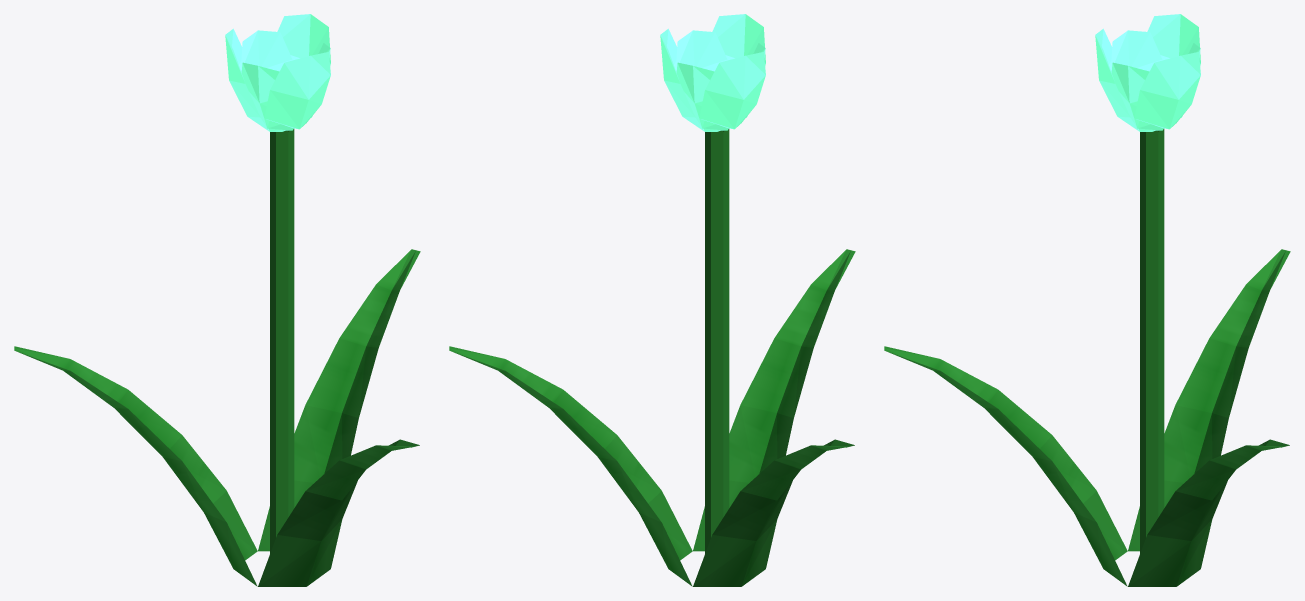
The model's file is Tulip1.glb.
3 views of the same model, side by side, from view 1: azimuth 30°, elevation 25°; view 2: azimuth 150°, elevation 25°; view 3: azimuth 270°, elevation 25° (orthographic).
Parts seen in each view (by area): view 1: Leaves, Stem, Petals; view 2: Leaves, Stem, Petals; view 3: Leaves, Stem, Petals.
Part boxes in pixels (x1,y1,x2,y2): Leaves: [14, 249, 420, 586]; Stem: [270, 129, 294, 553]; Petals: [225, 14, 330, 131]; Leaves: [449, 249, 855, 586]; Stem: [705, 129, 729, 553]; Petals: [660, 14, 765, 131]; Leaves: [884, 249, 1290, 586]; Stem: [1140, 129, 1164, 553]; Petals: [1095, 14, 1200, 131].
Size of the model in its own units: 0.4817 by 0.605 by 0.4172.
Materials: 3 (1 with a texture image).
